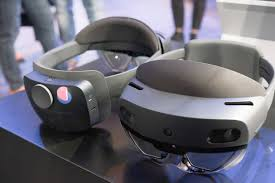hololens: (122, 38, 273, 173), (20, 15, 185, 132)
